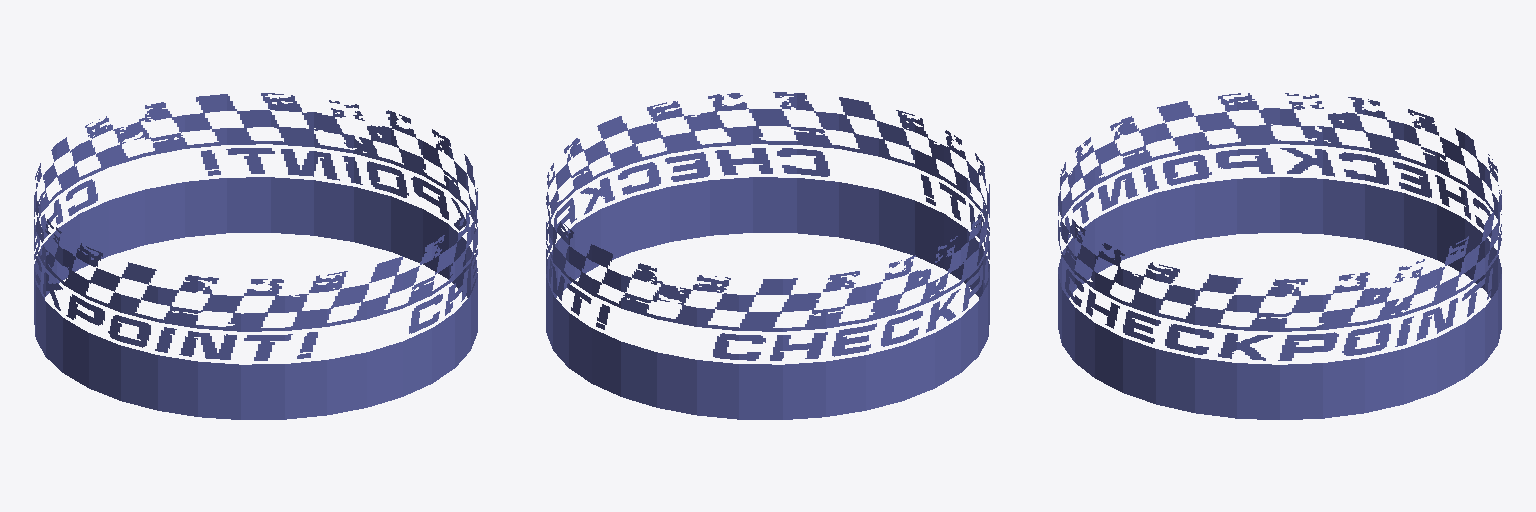
The picture shows the model from 3 angles: view 1: azimuth 30°, elevation 25°; view 2: azimuth 150°, elevation 25°; view 3: azimuth 270°, elevation 25°; orthographic projection.
Visible parts, largest first — view 1: pod1-check; view 2: pod1-check; view 3: pod1-check.
Part boxes in pixels (bbox=[...]): pod1-check: bbox=[34, 93, 477, 419]; pod1-check: bbox=[546, 92, 989, 419]; pod1-check: bbox=[1058, 93, 1501, 419].
Size of the model in its own units: 11.73 by 4.11 by 11.73.
1 materials, 1 textured.